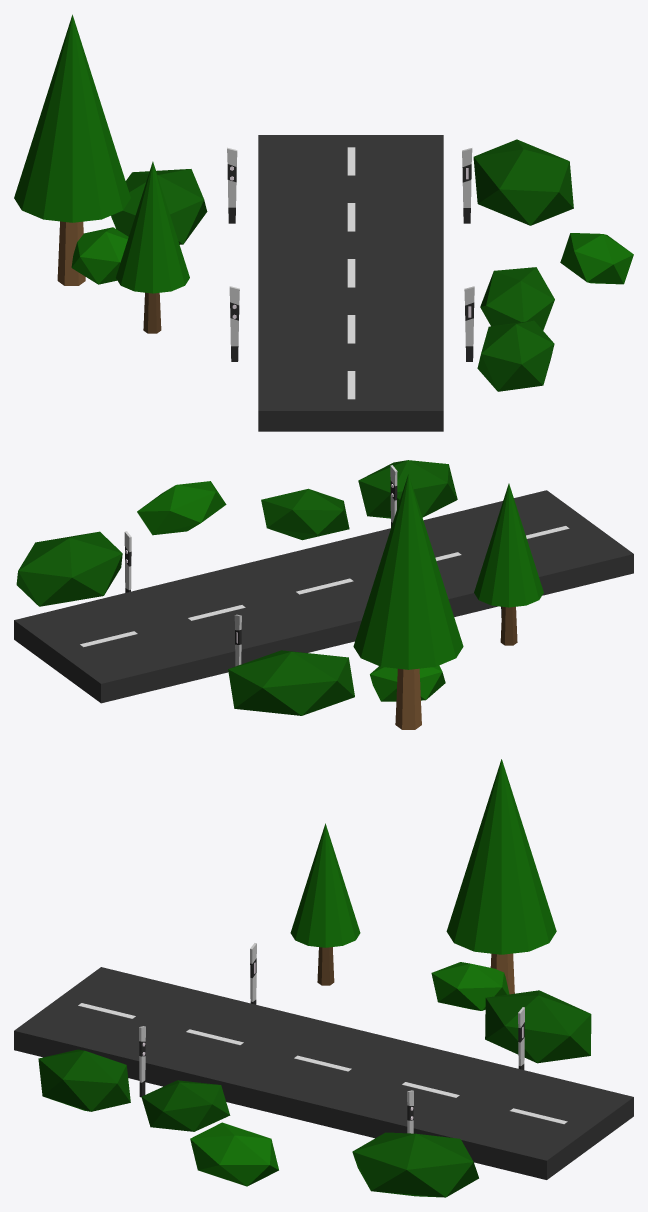
File: street2_03_5.fbx
3 views of the same model, one above another, from view 1: azimuth 30°, elevation 25°; view 2: azimuth 150°, elevation 25°; view 3: azimuth 270°, elevation 25° (orthographic). The views are drawn at different scales.
Parts seen in each view (by area): view 1: street03.005, nadelTree, bush.015, nadelTree.001, bush.018, bush.017, bush.016, bush.019, bush.014, penguin.007, penguin.006, laneMarkings.005; view 2: street03.005, nadelTree, bush.016, bush.015, nadelTree.001, bush.018, bush.017, bush.019, bush.014, laneMarkings.005, penguin.006; view 3: street03.005, nadelTree, bush.015, bush.016, nadelTree.001, bush.018, bush.019, bush.017, bush.014, laneMarkings.005, penguin.007, penguin.006.
Part boxes in pixels (left/top/right/bottom): street03.005: left=258, top=135, right=443, bottom=431; nadelTree: left=14, top=14, right=130, bottom=285; bush.015: left=473, top=139, right=573, bottom=225; nadelTree.001: left=116, top=161, right=189, bottom=333; bush.018: left=477, top=320, right=554, bottom=391; bush.017: left=480, top=267, right=554, bottom=330; bush.016: left=111, top=169, right=207, bottom=244; bush.019: left=560, top=233, right=633, bottom=284; bush.014: left=71, top=227, right=128, bottom=284; penguin.007: left=227, top=147, right=239, bottom=361; penguin.006: left=462, top=148, right=474, bottom=361; laneMarkings.005: left=347, top=147, right=355, bottom=399; street03.005: left=14, top=490, right=633, bottom=703; nadelTree: left=353, top=474, right=463, bottom=729; bush.016: left=228, top=650, right=354, bottom=715; bush.015: left=16, top=531, right=122, bottom=606; nadelTree.001: left=474, top=483, right=543, bottom=645; bush.018: left=358, top=460, right=457, bottom=518; bush.017: left=261, top=488, right=349, bottom=540; bush.019: left=137, top=481, right=226, bottom=535; bush.014: left=370, top=665, right=445, bottom=701; laneMarkings.005: left=80, top=526, right=569, bottom=647; penguin.006: left=124, top=465, right=397, bottom=592; street03.005: left=14, top=967, right=633, bottom=1179; nadelTree: left=446, top=759, right=556, bottom=994; bush.015: left=352, top=1132, right=478, bottom=1197; bush.016: left=485, top=990, right=591, bottom=1063; nadelTree.001: left=290, top=823, right=360, bottom=985; bush.018: left=38, top=1049, right=130, bottom=1111; bush.019: left=190, top=1122, right=278, bottom=1186; bush.017: left=141, top=1080, right=230, bottom=1131; bush.014: left=431, top=962, right=509, bottom=1010; laneMarkings.005: left=78, top=1003, right=567, bottom=1124; penguin.007: left=250, top=943, right=524, bottom=1069; penguin.006: left=139, top=1026, right=413, bottom=1133.
Size of the model in its own units: 86.61 by 44.47 by 99.3.
